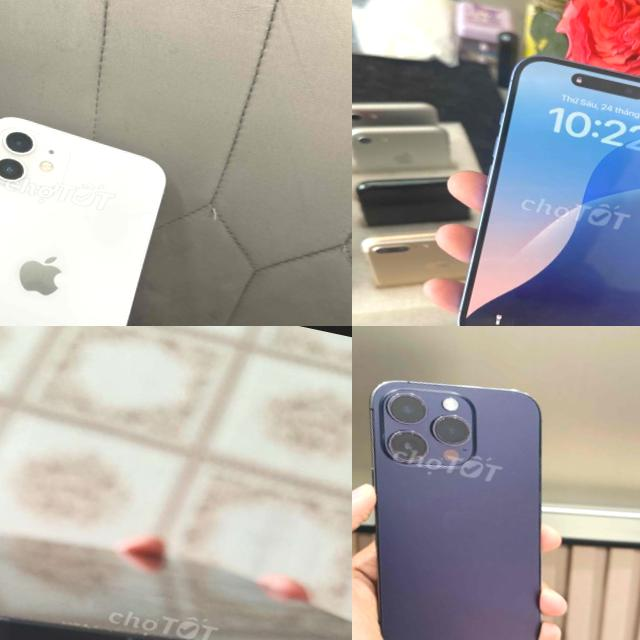scratch: (0, 578, 145, 640), (210, 616, 352, 640)
